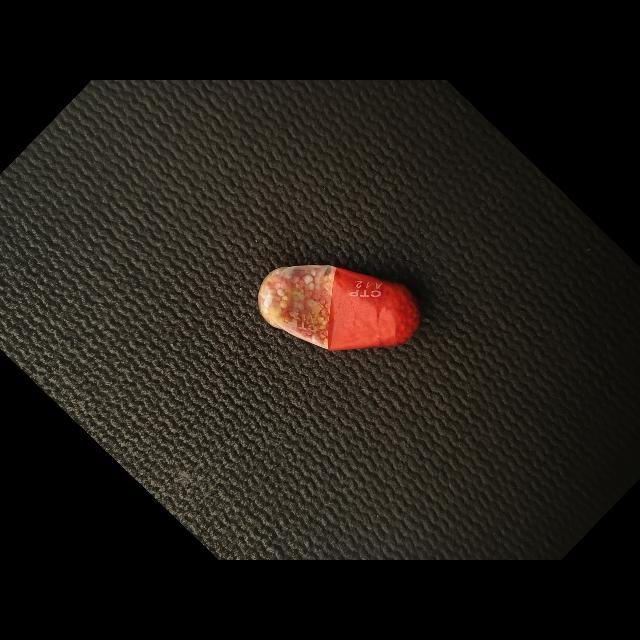Defective Capsule: (258, 265, 420, 351)
